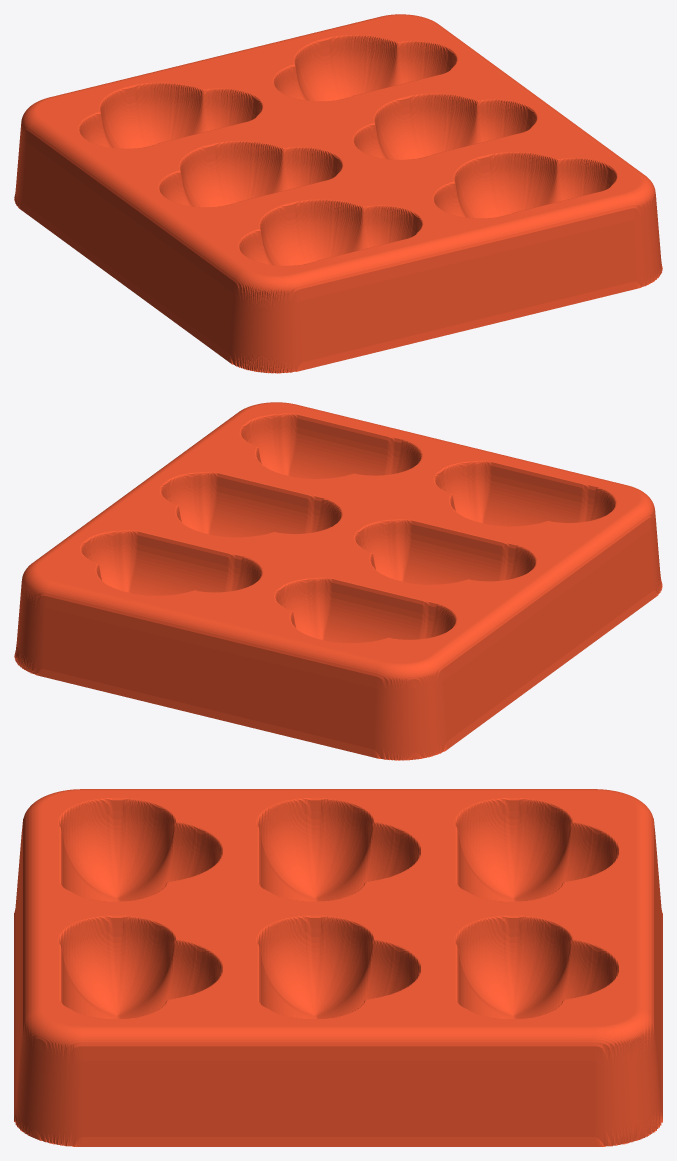
File: mold.glb
3 renders of one model, top to bottom at view 1: azimuth 30°, elevation 25°; view 2: azimuth 150°, elevation 25°; view 3: azimuth 270°, elevation 25°, orthographic. The views are drawn at different scales.
Parts seen in each view (by area): view 1: geometry_0; view 2: geometry_0; view 3: geometry_0.
Part boxes in pixels (box(x1,y1,x2,y2)): geometry_0: box(14, 14, 662, 373); geometry_0: box(14, 402, 662, 760); geometry_0: box(14, 789, 662, 1146).
Size of the model in its own units: 0.0808 by 0.0159 by 0.0858.
